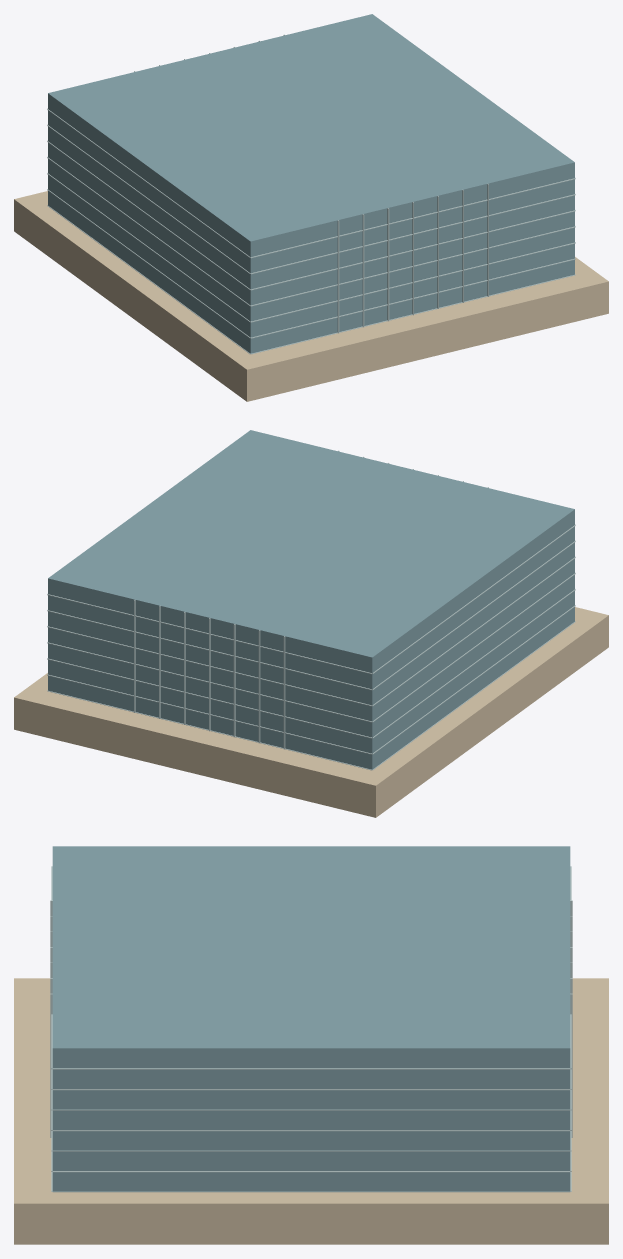
File: museum-art-pudong.glb
The picture shows the model from 3 angles, top to bottom: view 1: azimuth 30°, elevation 25°; view 2: azimuth 150°, elevation 25°; view 3: azimuth 270°, elevation 25°; orthographic projection. The views are drawn at different scales.
Parts seen in each view (by area): view 1: museum-art-pudong; view 2: museum-art-pudong; view 3: museum-art-pudong.
Boxes of the visible parts, bbox=[...] form: museum-art-pudong: bbox=[14, 14, 608, 401]; museum-art-pudong: bbox=[14, 430, 608, 817]; museum-art-pudong: bbox=[14, 846, 608, 1244].
Bounding box in the file's own units: 78.51 × 30 × 87.57.
